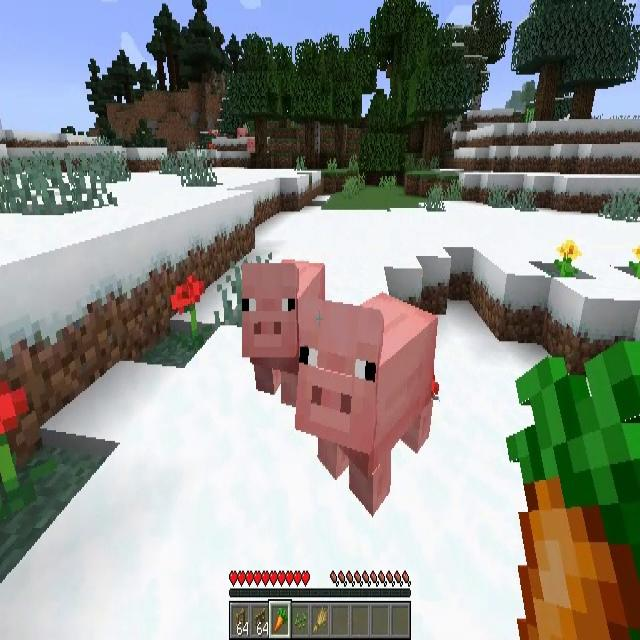flower: (555, 239, 582, 277)
pig: (298, 294, 439, 498), (242, 250, 326, 403)
